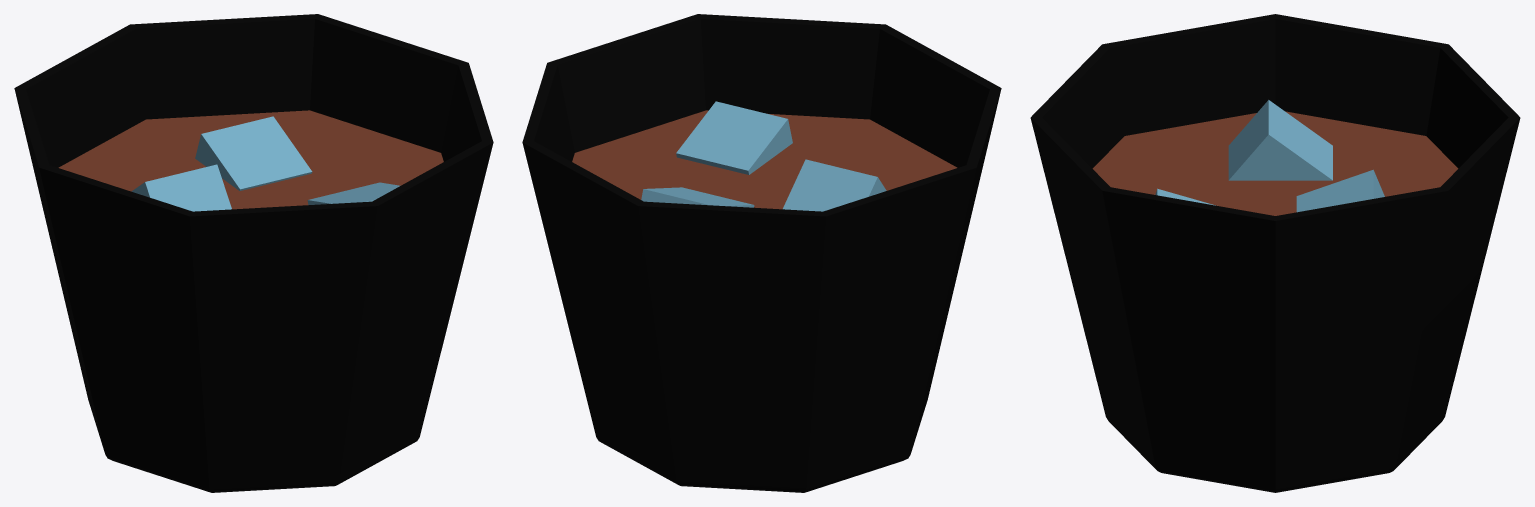
The model's file is Shootter_Glass.fbx.
The picture shows the model from 3 angles, left to right: view 1: azimuth 30°, elevation 25°; view 2: azimuth 150°, elevation 25°; view 3: azimuth 270°, elevation 25°; orthographic projection.
Visible parts, largest first — view 1: pCylinder4; view 2: pCylinder4; view 3: pCylinder4.
Boxes of the visible parts, x1=… form: pCylinder4: x1=14, y1=14, x2=493, y2=492; pCylinder4: x1=522, y1=14, x2=1001, y2=492; pCylinder4: x1=1030, y1=14, x2=1520, y2=492.
Bounding box in the file's own units: 2.89 × 2 × 2.89.
